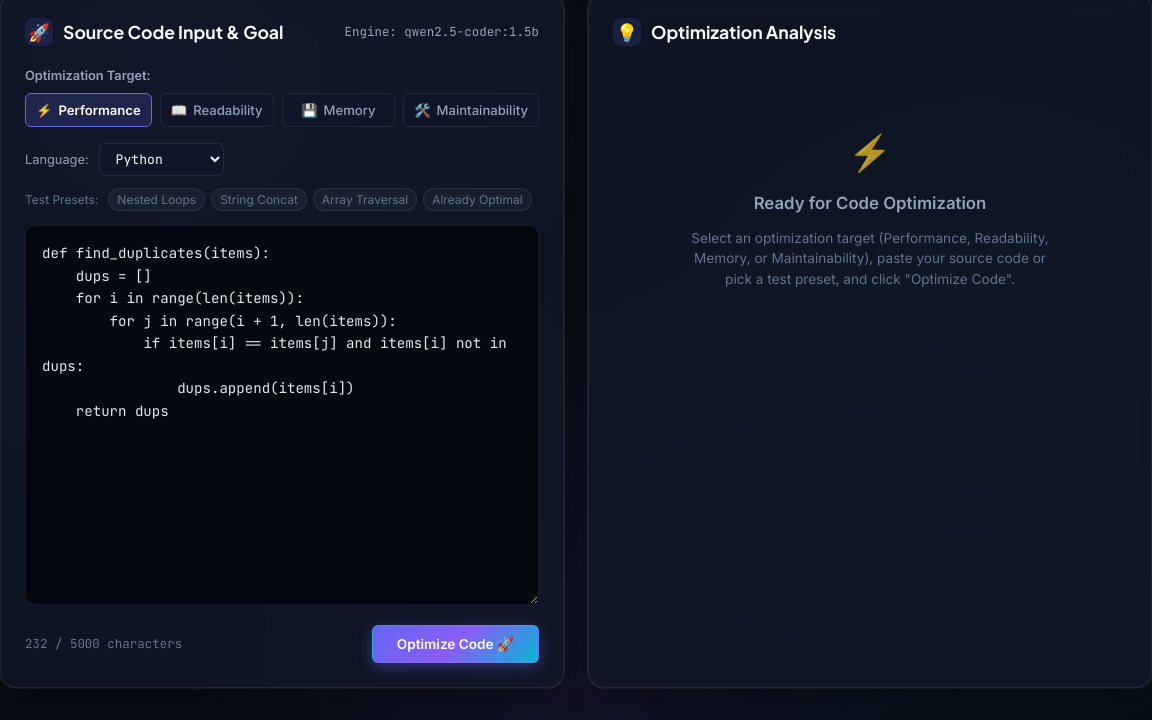
CodeOptimizerView Feature Integration › displays error alert and retry button when API request fails
(page scrolled)
Click the button named "Optimize Code with AI" at (455, 644), box [372,625,539,663]
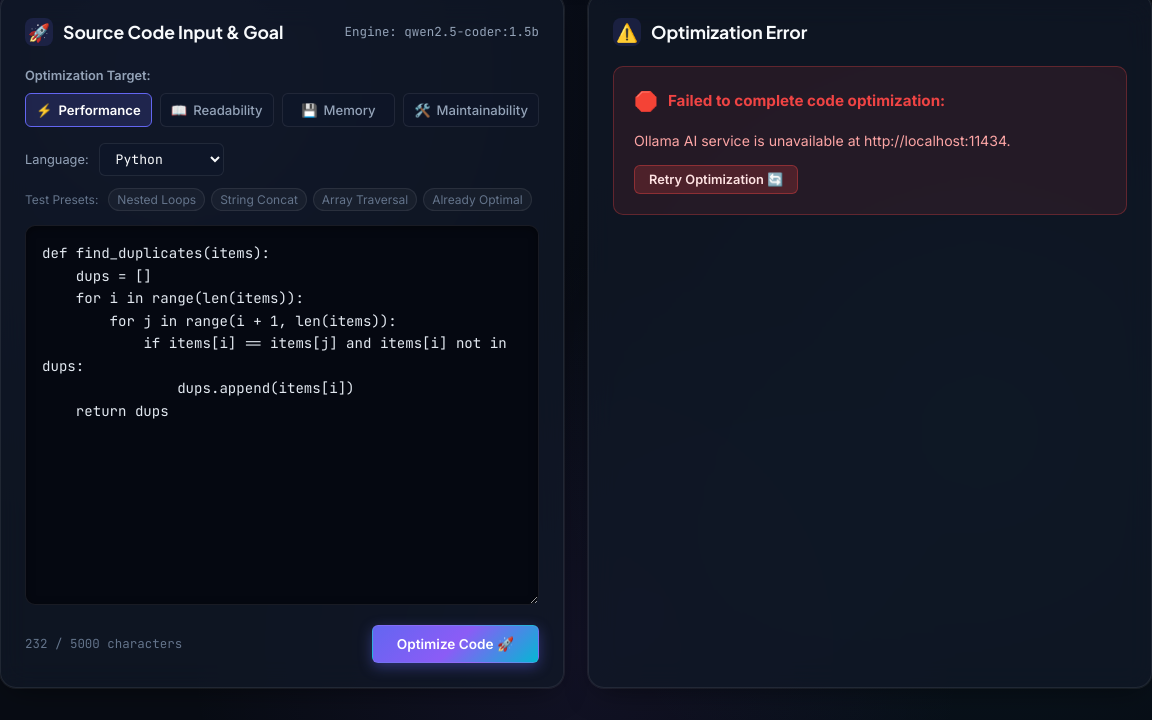
Expected: the message is shown, [613,66,1127,215]
Expected: the text "Ollama AI service is unavailable at http://localhost:11434." is shown, [634,132,1011,149]
Expected: the button "Retry Optimization 🔄" is shown, [634,165,798,194]
